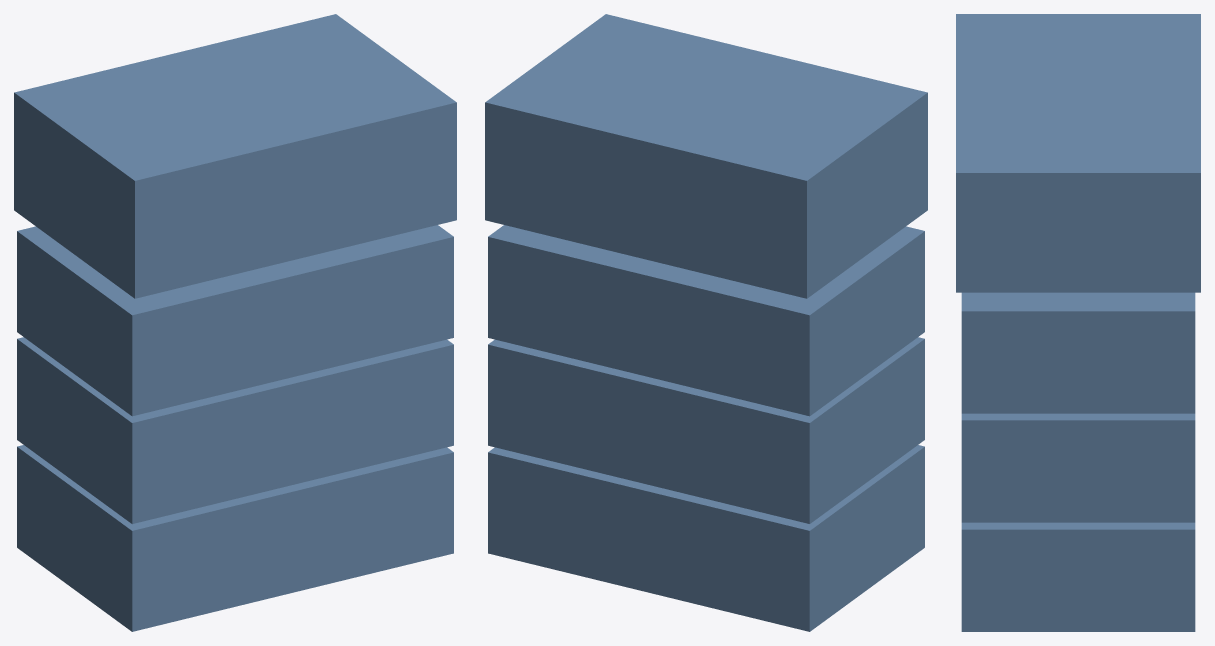
File: linearray4.glb
The picture shows the model from 3 angles, left to right: view 1: azimuth 30°, elevation 25°; view 2: azimuth 150°, elevation 25°; view 3: azimuth 270°, elevation 25°; orthographic projection.
Visible parts, largest first — view 1: linearray4; view 2: linearray4; view 3: linearray4.
Part boxes in pixels (x1,y1,x2,y2): linearray4: [14, 14, 456, 631]; linearray4: [485, 14, 927, 631]; linearray4: [956, 14, 1200, 631].
Size of the model in its own units: 1 by 1.34 by 0.65.
